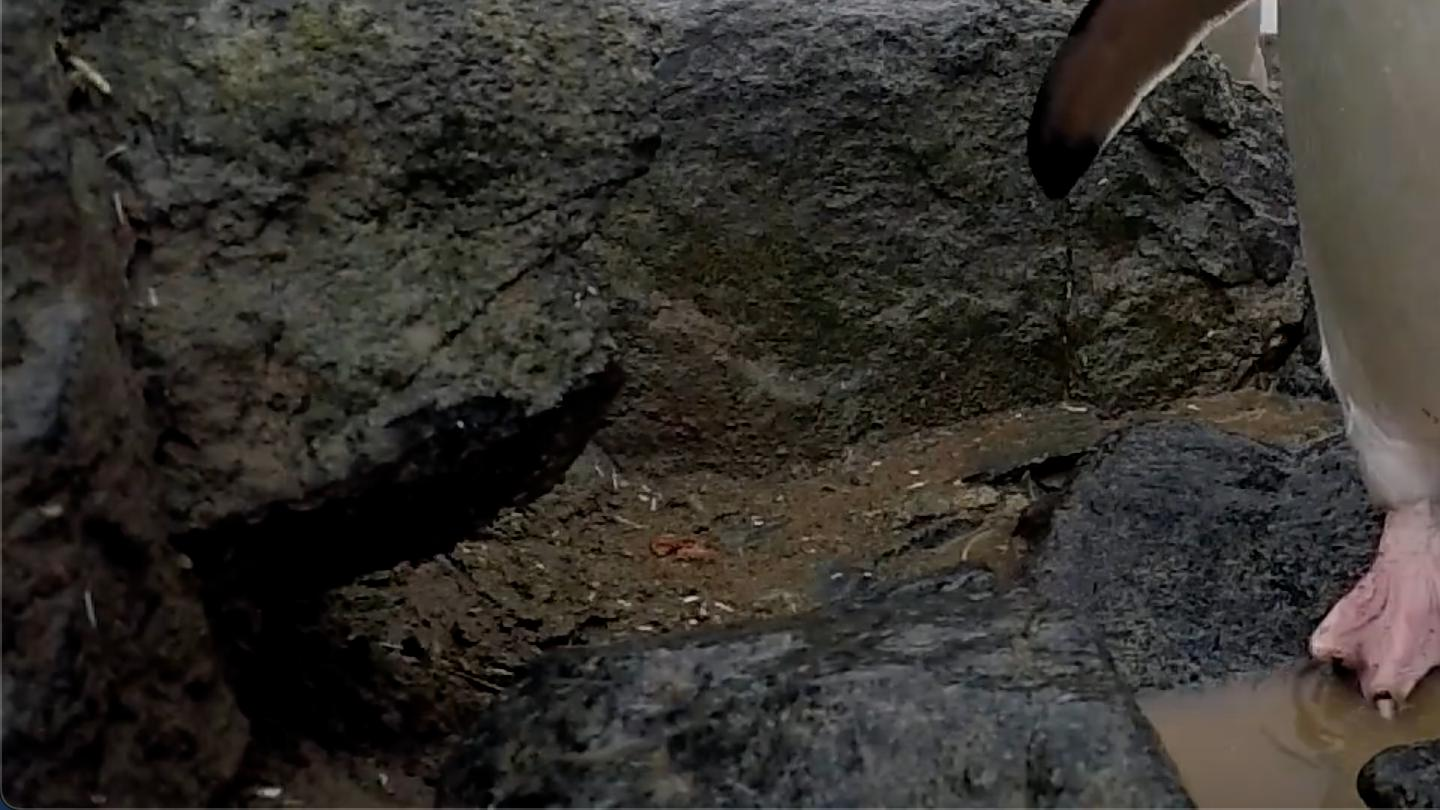Chinstrap Penguin: (1016, 0, 1440, 725), (1066, 0, 1303, 83)
